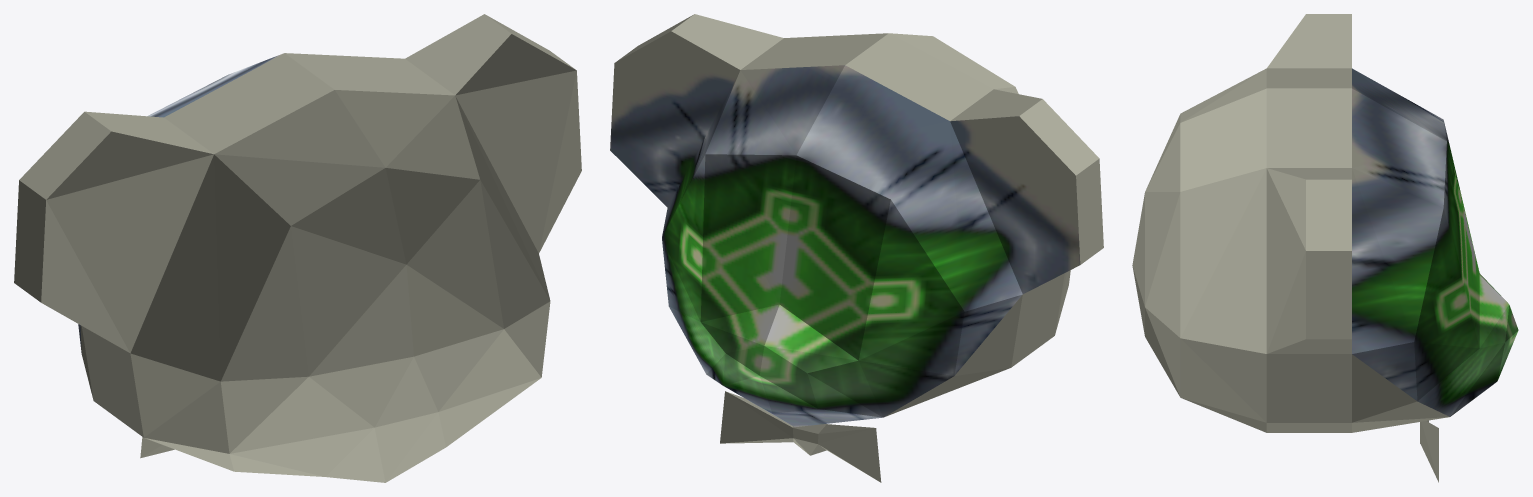
File: icon.ico.obj
3 views of the same model, side by side, from view 1: azimuth 30°, elevation 25°; view 2: azimuth 150°, elevation 25°; view 3: azimuth 270°, elevation 25° (orthographic). The views are drawn at different scales.
Bounding box in the file's own units: 4.45 × 3.3 × 3.25.
